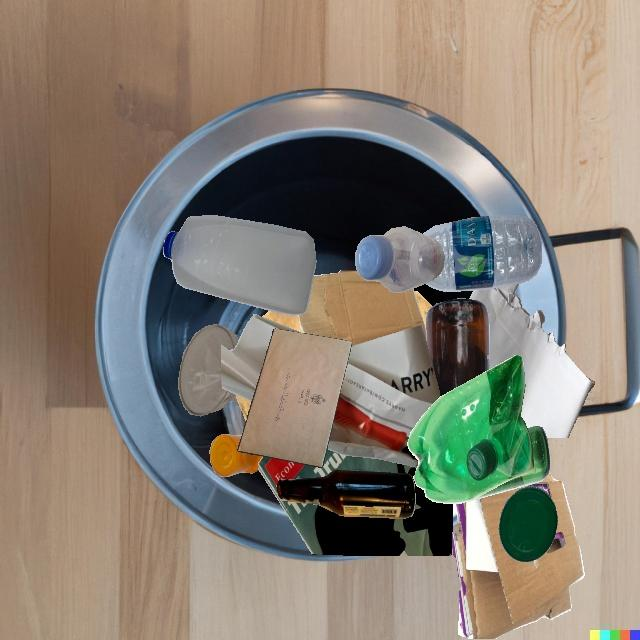biowaste: (248, 291, 414, 414)
cardboard: (451, 473, 584, 639), (298, 270, 427, 346)
glass: (276, 469, 416, 519), (466, 426, 550, 502), (426, 298, 490, 397), (178, 324, 240, 416), (332, 450, 341, 453)
paper: (258, 449, 453, 556), (469, 283, 594, 438), (327, 325, 440, 467), (238, 329, 352, 467), (221, 314, 302, 402)
plastic: (407, 355, 533, 504), (163, 215, 316, 315), (422, 215, 542, 292), (355, 226, 445, 293), (499, 486, 558, 562), (210, 434, 263, 477)
